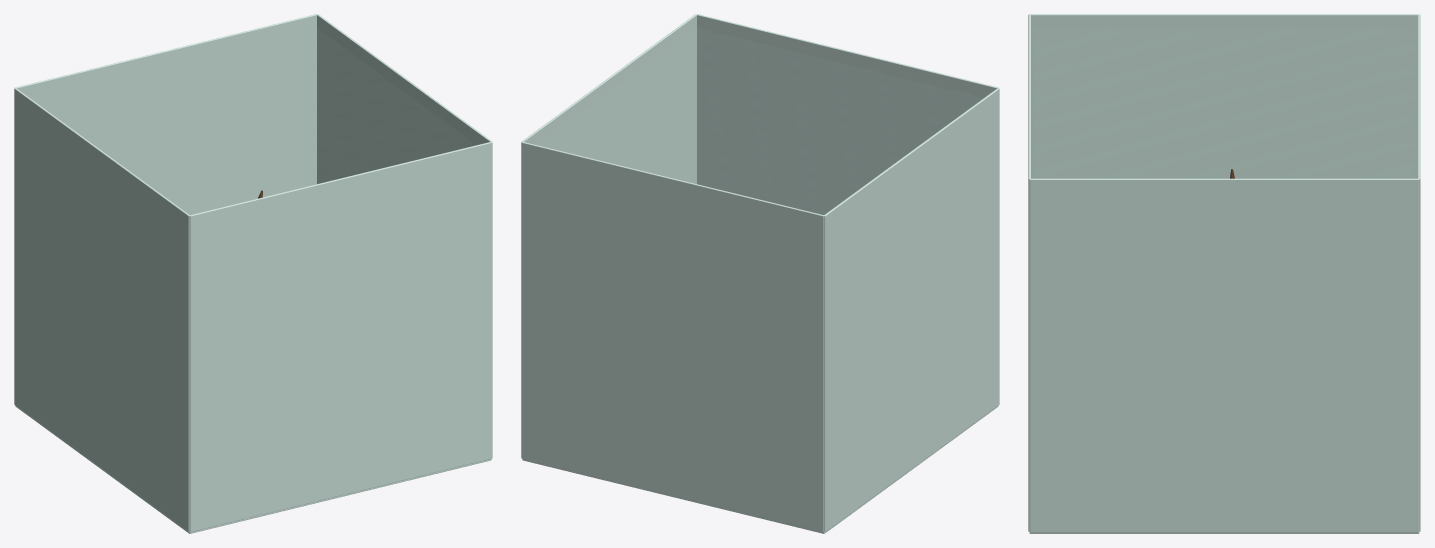
Rendered from cube-45-stump.glb.
3 renders of one model, left to right at view 1: azimuth 30°, elevation 25°; view 2: azimuth 150°, elevation 25°; view 3: azimuth 270°, elevation 25°, orthographic. The views are drawn at different scales.
Visible parts, largest first — view 1: tank.glass.front, tank.glass.left, tank.glass.back, tank.glass.right, tank.glass.base; view 2: tank.glass.back, tank.glass.left, tank.glass.front, tank.glass.right, tank.glass.base; view 3: tank.glass.right, tank.glass.left, tank.glass.back, tank.glass.front, tank.glass.base.
Part boxes in pixels (x1,y1,x2,y2): tank.glass.front: [189, 142, 492, 532]; tank.glass.left: [14, 88, 189, 531]; tank.glass.back: [15, 14, 316, 214]; tank.glass.right: [317, 14, 492, 457]; tank.glass.base: [15, 405, 491, 533]; tank.glass.back: [521, 142, 824, 532]; tank.glass.left: [824, 88, 999, 531]; tank.glass.front: [697, 14, 998, 214]; tank.glass.right: [521, 14, 696, 457]; tank.glass.base: [522, 405, 998, 533]; tank.glass.right: [1029, 178, 1419, 532]; tank.glass.left: [1030, 14, 1418, 178]; tank.glass.back: [1418, 14, 1420, 531]; tank.glass.front: [1028, 14, 1030, 531]; tank.glass.base: [1029, 532, 1419, 533].
Size of the model in its own units: 0.453 by 0.453 by 0.453.
